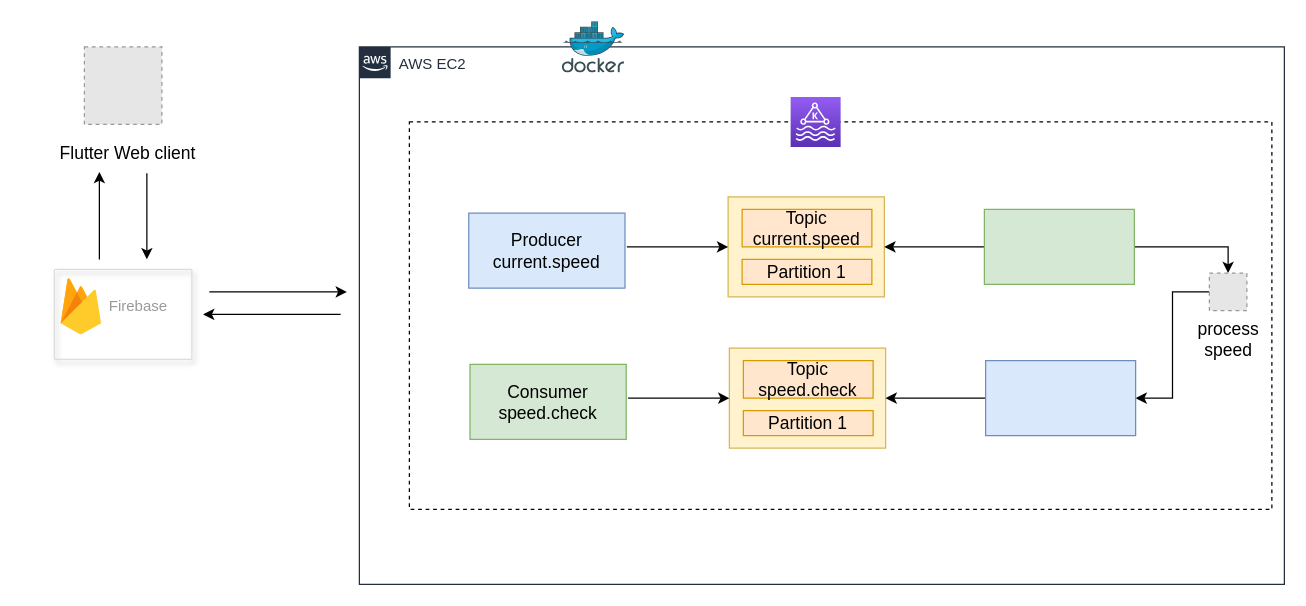
Image size: 1306x606. Some labels were removed from this diagram. Grey dashed boxes stand in for pictures. The centre of each missing label's shape, as x and y in pixels:
Consumer current.speed: the point at 1058,246
Kafka cluster: the point at 815,121
Producer speed.check: the point at 1060,397
